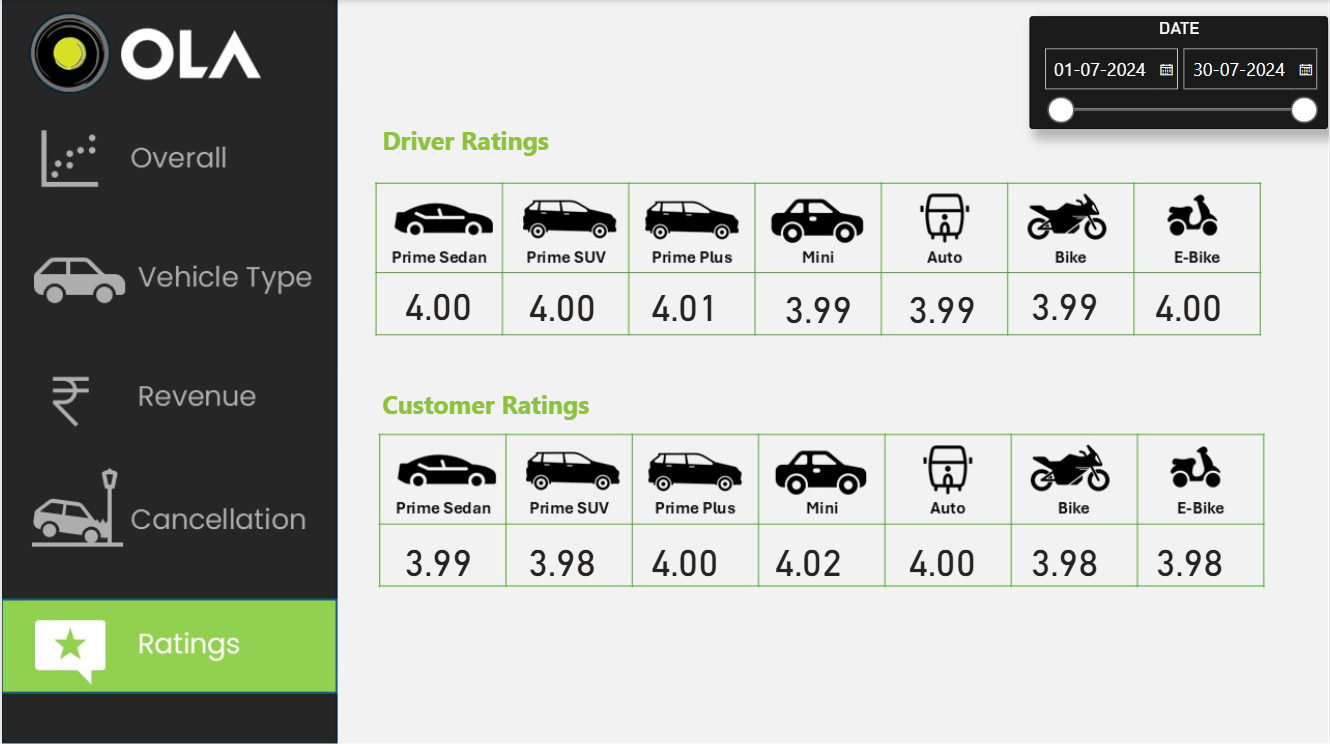

This screenshot's page, from the dashboard's own definition file:
{"tool":"powerbi","page":{"name":"Ratings","canvas":[1280,720],"ordinal":4},"visuals":[{"type":"actionButton","box":[0,114.6,322.1,79.6],"z":0},{"type":"card","fields":{"Values":["Avg(July.Driver_Ratings)"]},"box":[362.3,257.8,118.9,70.2],"z":1000},{"type":"card","fields":{"Values":["Avg(July.Driver_Ratings)"]},"box":[481.2,259.2,118.9,70.2],"z":2000},{"type":"card","fields":{"Values":["Avg(July.Driver_Ratings)"]},"box":[600,259.2,118.9,70.2],"z":3000},{"type":"card","fields":{"Values":["Avg(July.Driver_Ratings)"]},"box":[728.9,260.6,118.9,70.2],"z":4000},{"type":"card","fields":{"Values":["Avg(July.Driver_Ratings)"]},"box":[847.8,260.6,118.9,70.2],"z":5000},{"type":"card","fields":{"Values":["Avg(July.Driver_Ratings)"]},"box":[966.7,257.8,118.9,70.2],"z":6000},{"type":"card","fields":{"Values":["Avg(July.Driver_Ratings)"]},"box":[1085.5,259.2,118.9,70.2],"z":7000},{"type":"textbox","box":[362.3,114.6,277.8,47.3],"z":8000},{"type":"textbox","box":[362.3,369.5,277.8,47.3],"z":9000},{"type":"card","fields":{"Values":["Avg(July.Customer_Rating)"]},"box":[362.3,505.5,118.9,70.2],"z":10000},{"type":"card","fields":{"Values":["Avg(July.Customer_Rating)"]},"box":[481.2,505.5,118.9,70.2],"z":11000},{"type":"card","fields":{"Values":["Avg(July.Customer_Rating)"]},"box":[600,505.5,118.9,70.2],"z":12000},{"type":"card","fields":{"Values":["Avg(July.Customer_Rating)"]},"box":[718.9,505.5,118.9,70.2],"z":13000},{"type":"card","fields":{"Values":["Avg(July.Customer_Rating)"]},"box":[847.8,505.5,118.9,70.2],"z":14000},{"type":"card","fields":{"Values":["Avg(July.Customer_Rating)"]},"box":[966.7,505.5,118.9,70.2],"z":15000},{"type":"card","fields":{"Values":["Avg(July.Customer_Rating)"]},"box":[1087,505.5,118.9,70.2],"z":16000},{"type":"slicer","title":"DATE","fields":{"Values":["July.Date"]},"box":[992.1,15.8,287.9,108.8],"z":17000}]}

Visuals, with their boxes on the page's 1280x720 design canvas (x1, y1, x2, y2). These are canvas units, not pixel positions in the 1330x744 screenshot, which may show the page scaled, cropped or inside an application window:
actionButton: {"x1": 0, "y1": 115, "x2": 322, "y2": 194}
card - Avg(July.Driver_Ratings): {"x1": 362, "y1": 258, "x2": 481, "y2": 328}
card - Avg(July.Driver_Ratings): {"x1": 481, "y1": 259, "x2": 600, "y2": 329}
card - Avg(July.Driver_Ratings): {"x1": 600, "y1": 259, "x2": 719, "y2": 329}
card - Avg(July.Driver_Ratings): {"x1": 729, "y1": 261, "x2": 848, "y2": 331}
card - Avg(July.Driver_Ratings): {"x1": 848, "y1": 261, "x2": 967, "y2": 331}
card - Avg(July.Driver_Ratings): {"x1": 967, "y1": 258, "x2": 1086, "y2": 328}
card - Avg(July.Driver_Ratings): {"x1": 1086, "y1": 259, "x2": 1204, "y2": 329}
textbox: {"x1": 362, "y1": 115, "x2": 640, "y2": 162}
textbox: {"x1": 362, "y1": 370, "x2": 640, "y2": 417}
card - Avg(July.Customer_Rating): {"x1": 362, "y1": 506, "x2": 481, "y2": 576}
card - Avg(July.Customer_Rating): {"x1": 481, "y1": 506, "x2": 600, "y2": 576}
card - Avg(July.Customer_Rating): {"x1": 600, "y1": 506, "x2": 719, "y2": 576}
card - Avg(July.Customer_Rating): {"x1": 719, "y1": 506, "x2": 838, "y2": 576}
card - Avg(July.Customer_Rating): {"x1": 848, "y1": 506, "x2": 967, "y2": 576}
card - Avg(July.Customer_Rating): {"x1": 967, "y1": 506, "x2": 1086, "y2": 576}
card - Avg(July.Customer_Rating): {"x1": 1087, "y1": 506, "x2": 1206, "y2": 576}
"DATE" slicer: {"x1": 992, "y1": 16, "x2": 1280, "y2": 125}
